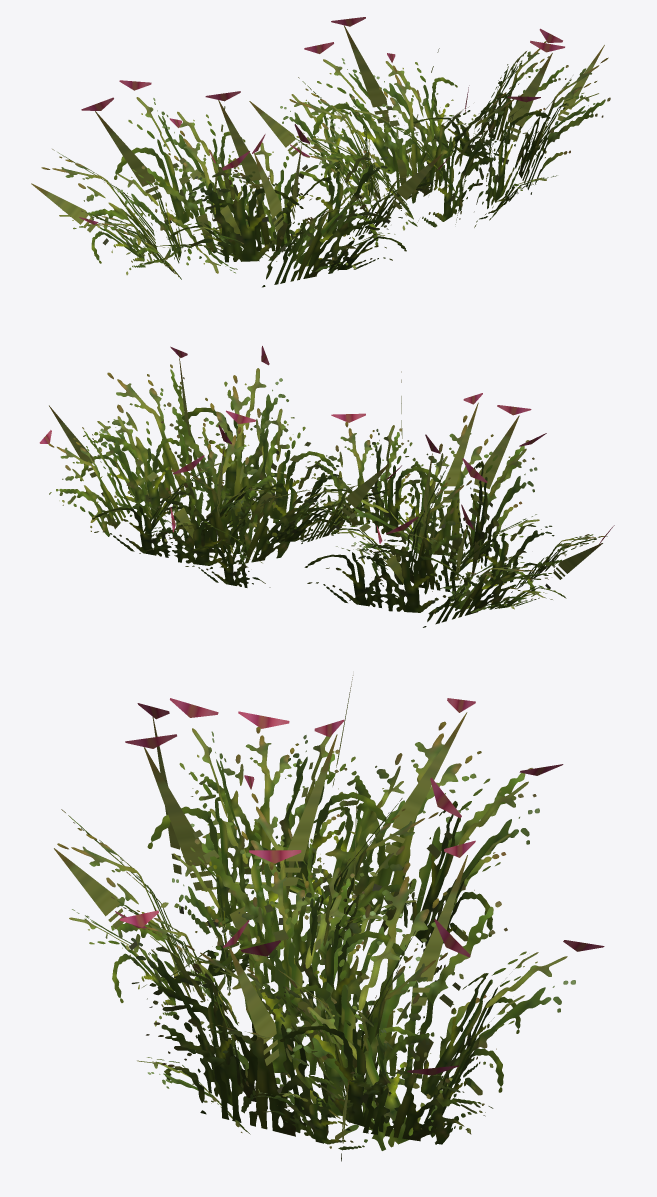
File: c_yamen_zhiwu02_zw.FBX
3 views of the same model, one above another, from view 1: azimuth 30°, elevation 25°; view 2: azimuth 150°, elevation 25°; view 3: azimuth 270°, elevation 25° (orthographic). The views are drawn at different scales.
Parts seen in each view (by area): view 1: c_yamen_zhiwu02_zw_01A; view 2: c_yamen_zhiwu02_zw_01A; view 3: c_yamen_zhiwu02_zw_01A.
Boxes of the visible parts, bbox=[...] form: c_yamen_zhiwu02_zw_01A: bbox=[31, 17, 610, 287]; c_yamen_zhiwu02_zw_01A: bbox=[39, 346, 614, 627]; c_yamen_zhiwu02_zw_01A: bbox=[54, 675, 604, 1161].
Size of the model in its own units: 160 by 45 by 101.
